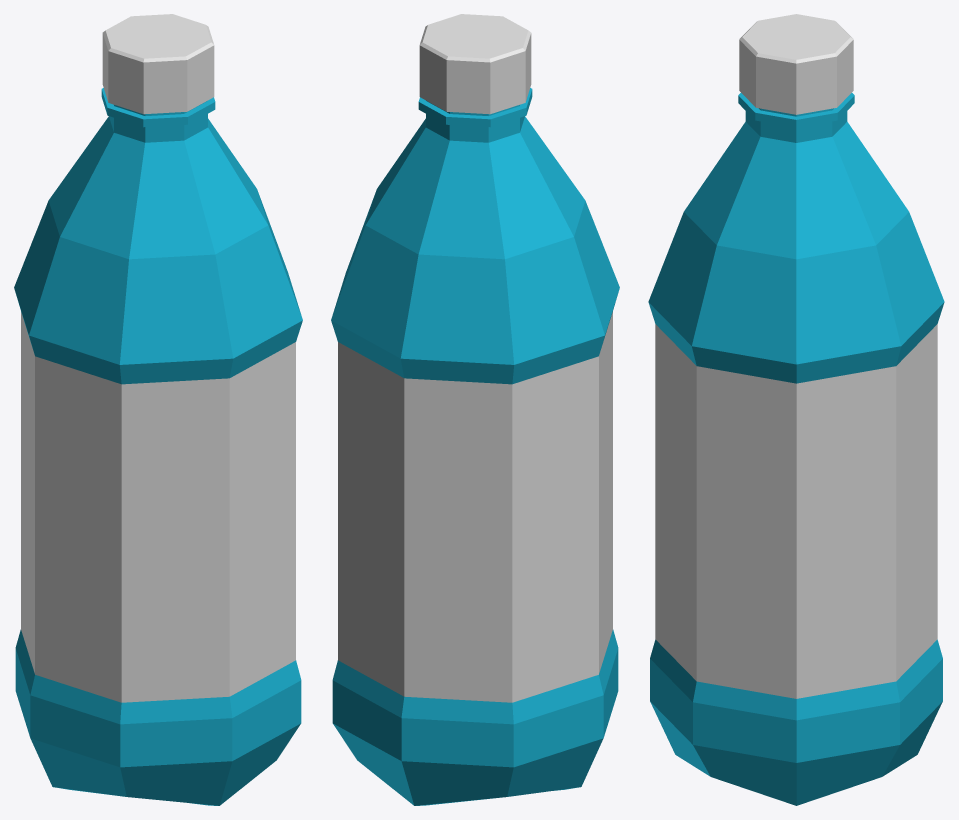
The model's file is WATERBOTTLE.fbx.
The picture shows the model from 3 angles, left to right: view 1: azimuth 30°, elevation 25°; view 2: azimuth 150°, elevation 25°; view 3: azimuth 270°, elevation 25°; orthographic projection.
Parts seen in each view (by area): view 1: Circle.002; view 2: Circle.002; view 3: Circle.002.
Boxes of the visible parts, <box> form: Circle.002: <box>14,14,302,805</box>; Circle.002: <box>331,14,619,805</box>; Circle.002: <box>648,14,944,805</box>.
Bounding box in the file's own units: 3.69 × 9.95 × 3.69.
